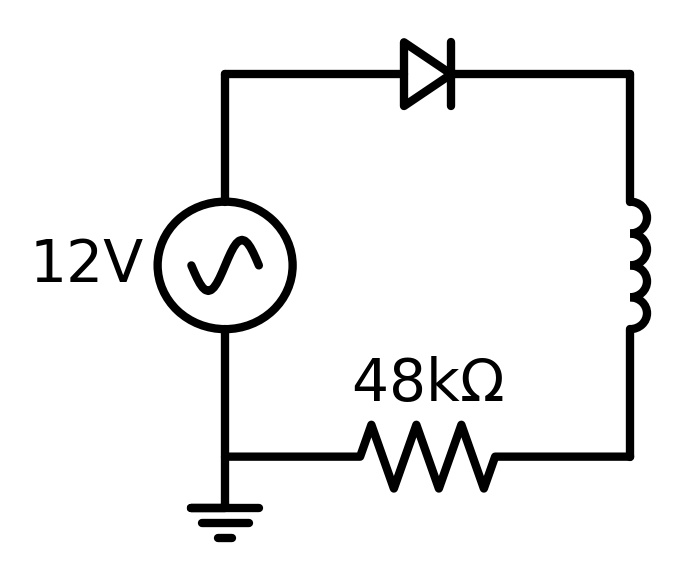diode: (371, 29, 480, 119)
ground: (172, 483, 274, 554)
inductor: (601, 189, 661, 346)
resistor: (347, 417, 507, 502)
sourceac: (148, 190, 301, 341)
